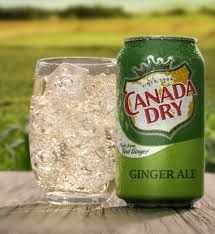Lata: (113, 34, 208, 213)
